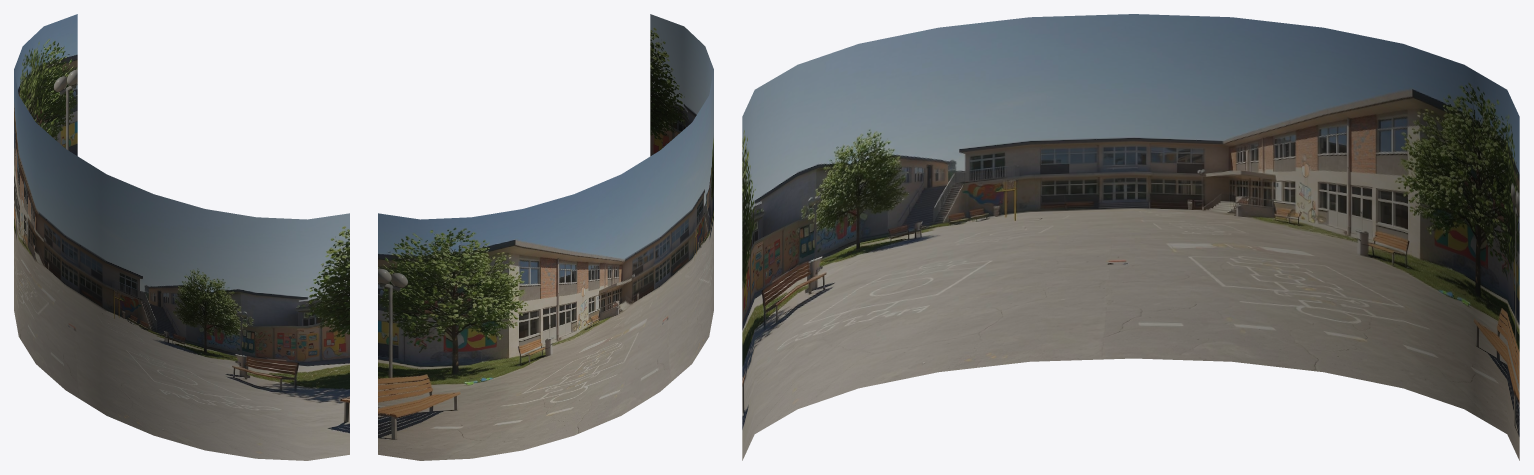
Rendered from classroom-background.fbx.
The picture shows the model from 3 angles, left to right: view 1: azimuth 30°, elevation 25°; view 2: azimuth 150°, elevation 25°; view 3: azimuth 270°, elevation 25°; orthographic projection. The views are drawn at different scales.
Visible parts, largest first — view 1: Background_Background_0; view 2: Background_Background_0; view 3: Background_Background_0.
Boxes of the visible parts, x1,y1,x2,y2 form: Background_Background_0: (14,14,349,460); Background_Background_0: (378,14,713,460); Background_Background_0: (742,14,1519,460).
Size of the model in its own units: 1160 by 1819 by 3717.
Materials: 1 (1 with a texture image).
